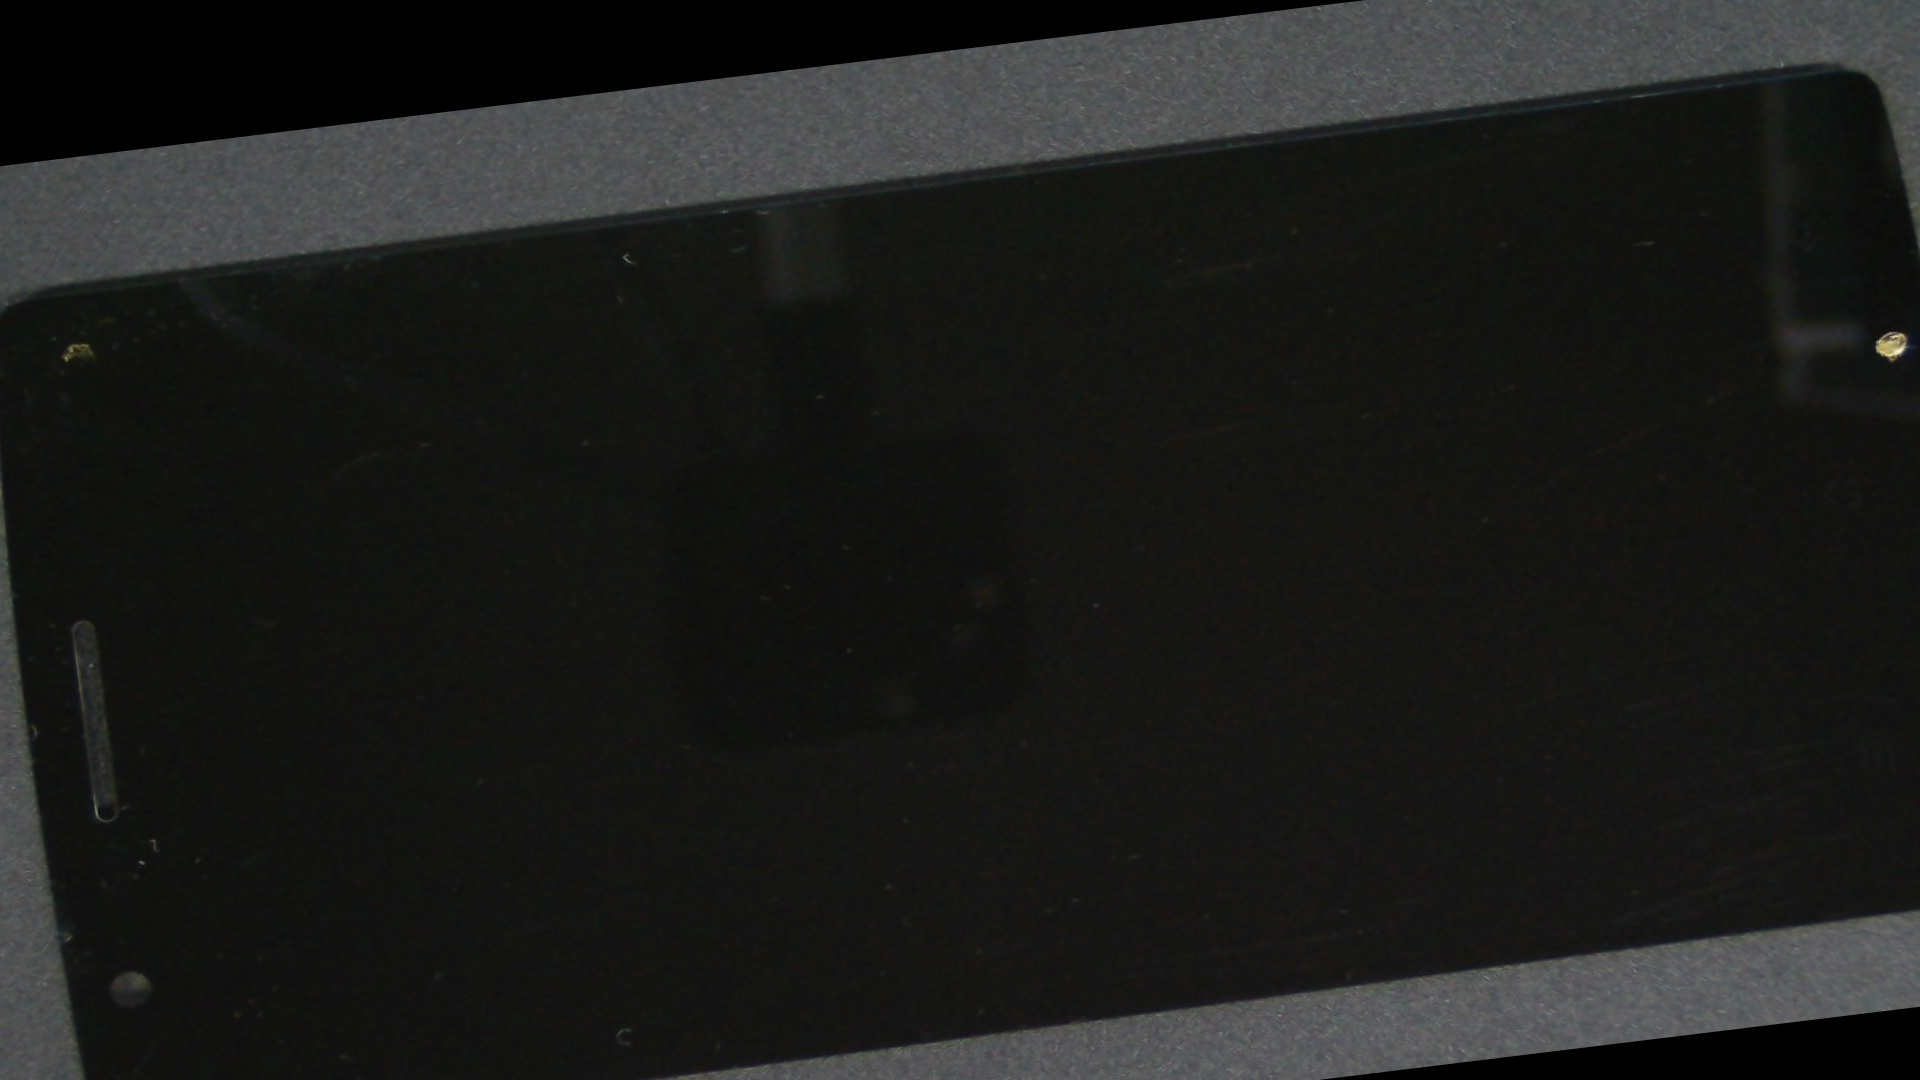oil: (860, 121, 1920, 649)
